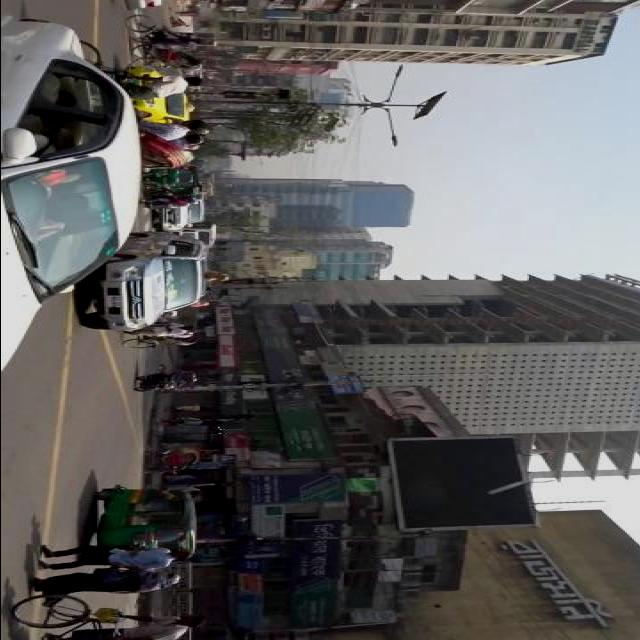car: (5, 15, 146, 371), (82, 230, 212, 331), (126, 66, 192, 123), (152, 201, 206, 230), (121, 0, 165, 11)
motorcycle: (86, 42, 196, 166), (94, 486, 198, 565), (126, 14, 202, 71), (125, 316, 199, 349), (146, 165, 201, 198), (144, 445, 202, 474), (140, 179, 178, 208), (136, 371, 180, 392)
